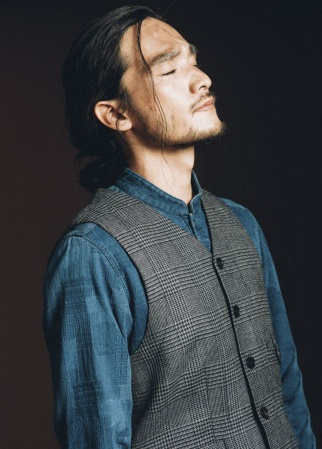male: (57, 7, 251, 174)
